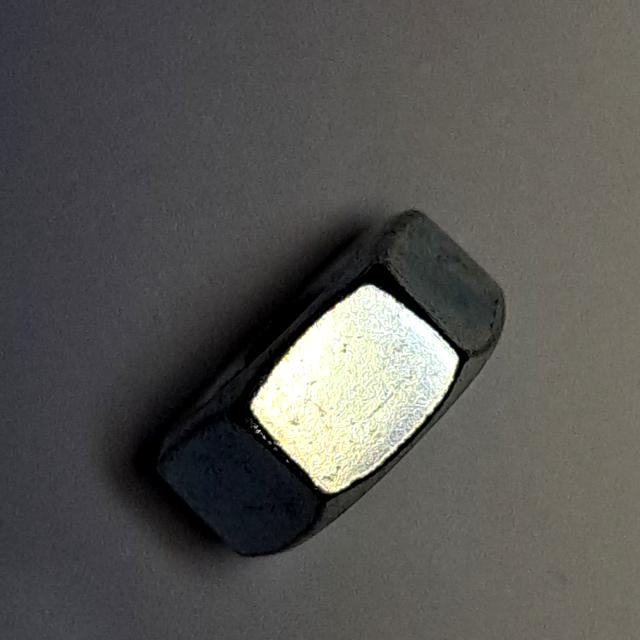Side_Excellent: (138, 194, 519, 570)
